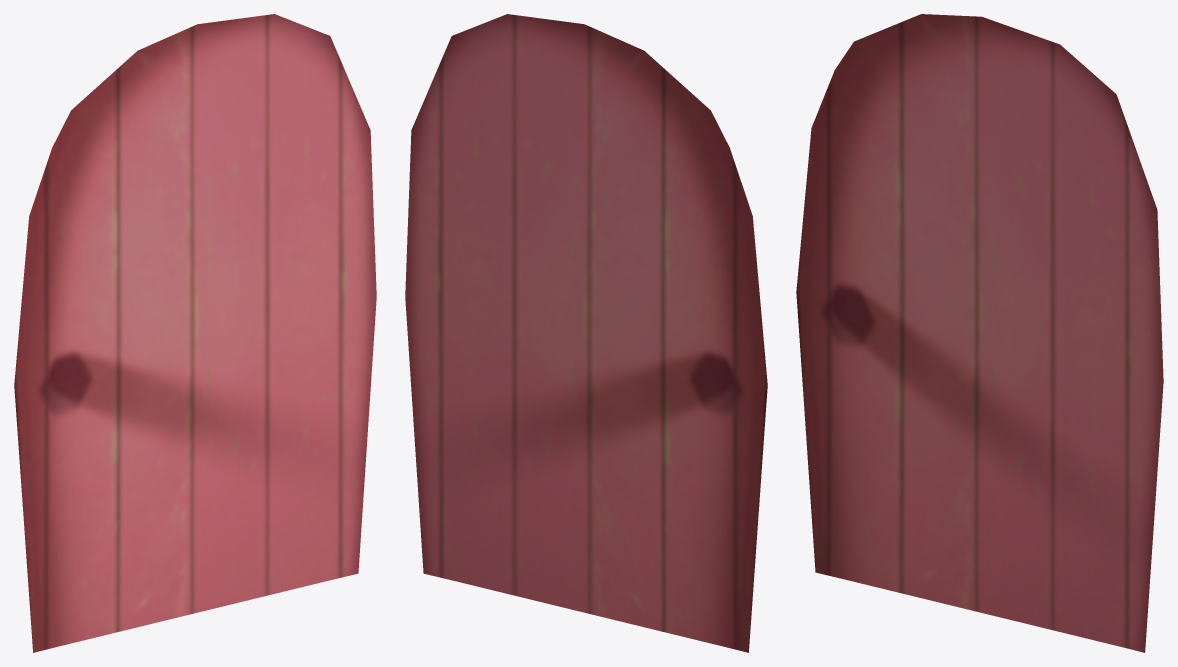
The model's file is outsidehouse_smallsdoor.dae.
3 views of the same model, side by side, from view 1: azimuth 30°, elevation 25°; view 2: azimuth 150°, elevation 25°; view 3: azimuth 330°, elevation 25° (orthographic).
Visible parts, largest first — view 1: SmallDoor; view 2: SmallDoor; view 3: SmallDoor.
Boxes of the visible parts, x1=… form: SmallDoor: x1=14, y1=14, x2=376, y2=652; SmallDoor: x1=405, y1=14, x2=767, y2=652; SmallDoor: x1=796, y1=14, x2=1163, y2=652.
Size of the model in its own units: 3.81 by 5.91 by 1.86e-15.
1 material, 1 textured.
